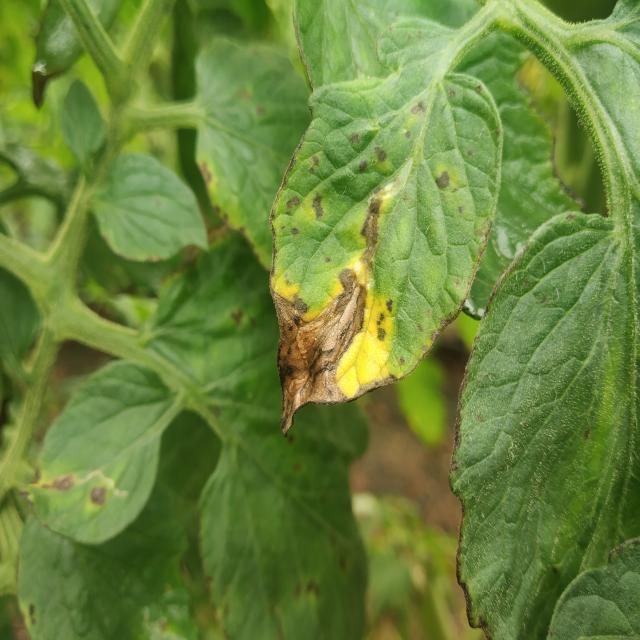Tomato mosaic virus leaf: (262, 71, 504, 444)
